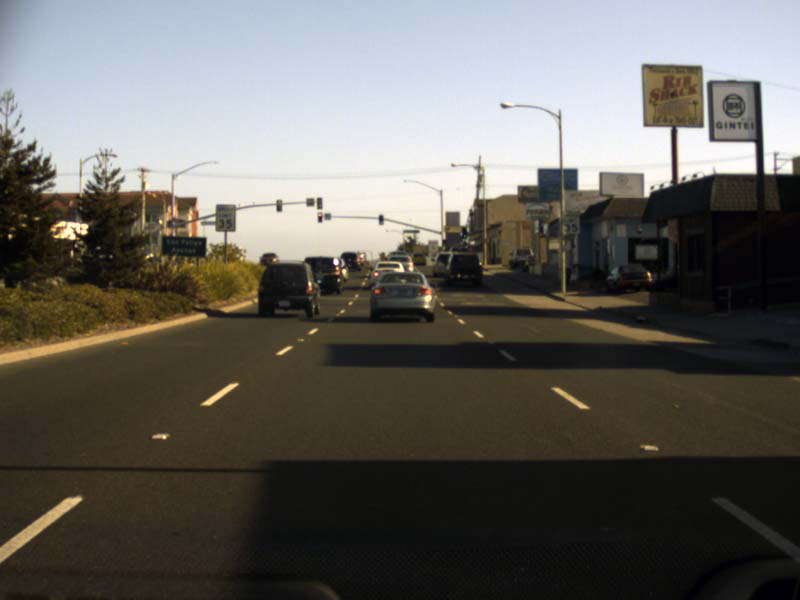Green: (378, 214, 384, 225)
Red: (316, 211, 323, 223)
